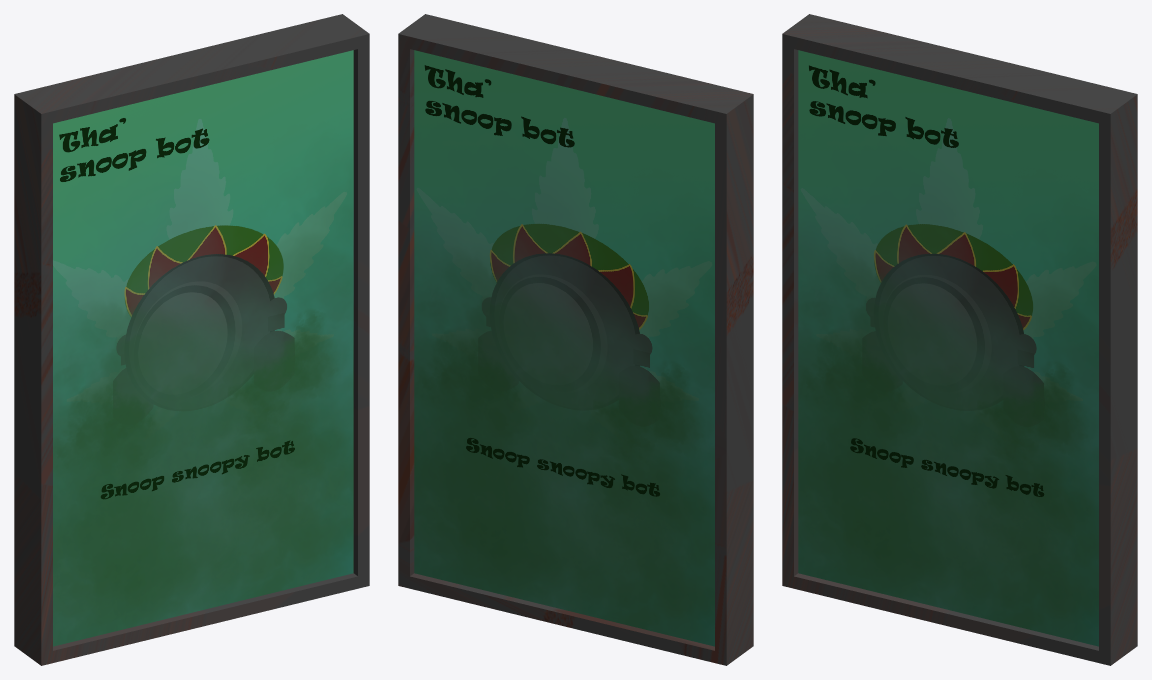
File: Sign_board_3-05-20-2022.fbx
3 views of the same model, side by side, from view 1: azimuth 30°, elevation 25°; view 2: azimuth 150°, elevation 25°; view 3: azimuth 330°, elevation 25° (orthographic).
Parts seen in each view (by area): view 1: Box001; view 2: Box001; view 3: Box001.
Part boxes in pixels (x1=…): Box001: x1=14, y1=14, x2=369, y2=665; Box001: x1=398, y1=14, x2=753, y2=665; Box001: x1=782, y1=14, x2=1137, y2=665.
Bounding box in the file's own units: 140 × 225 × 20.08.
